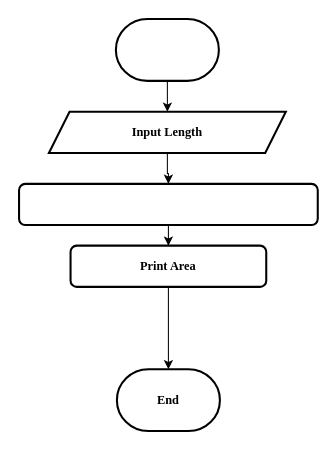
Image size: 336x449. Some labels were removed from this diagram. The centre of each missing label's shape, as x and y in pixels:
A=L*W: the point at 168,204
Start: the point at 166,49
